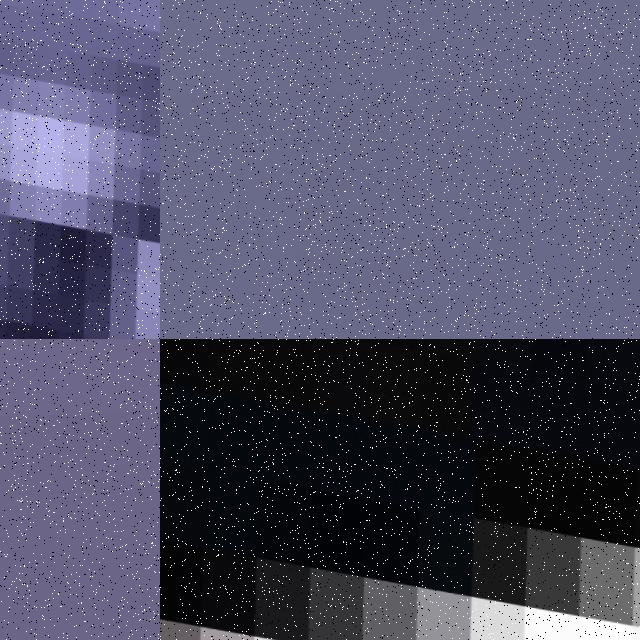drone: (160, 339, 640, 640), (0, 0, 160, 339)
